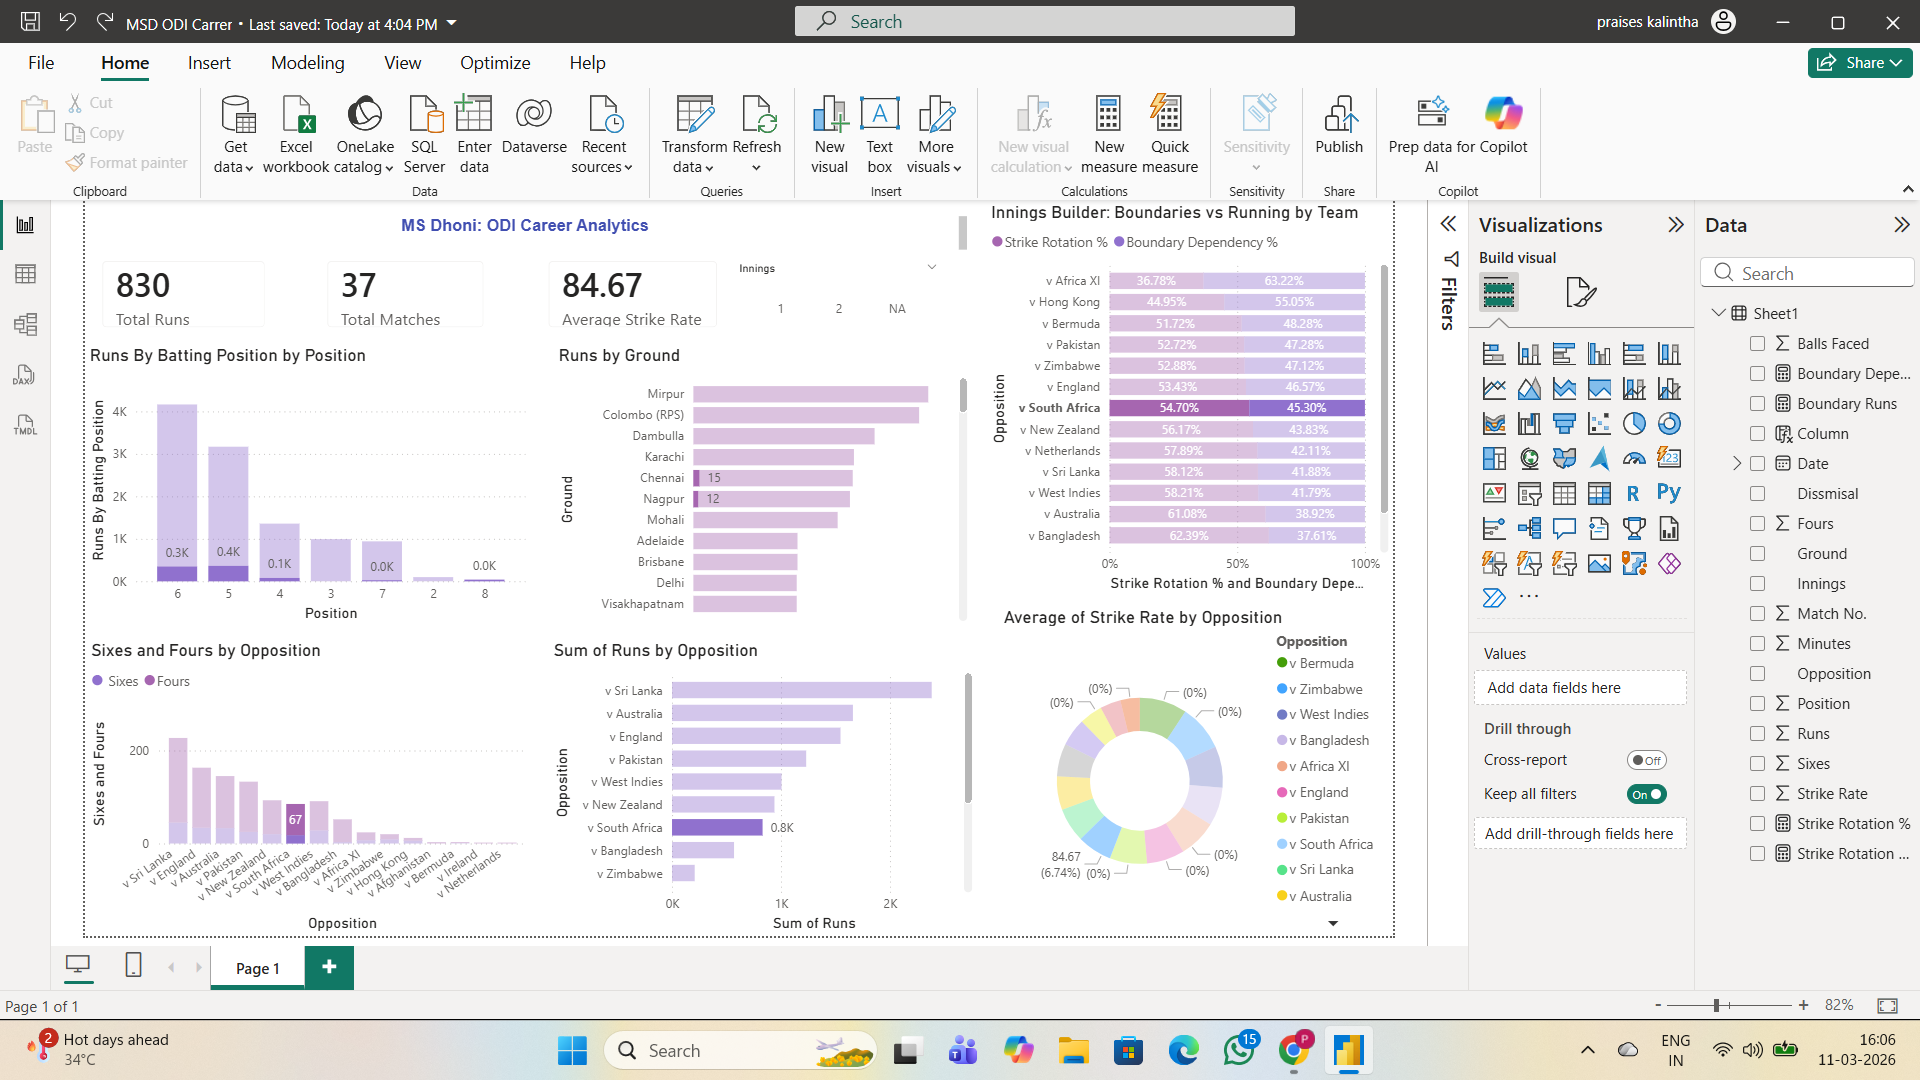

This screenshot's page, from the dashboard's own definition file:
{"tool":"powerbi","page":{"name":"Page 1","canvas":[1280,720],"ordinal":0},"visuals":[{"type":"columnChart","fields":{"Category":["Sheet1.Position"],"Y":["Sum(Sheet1.Runs)"]},"box":[0,141.8,436.6,275.1],"z":0},{"type":"columnChart","fields":{"Category":["Sheet1.Opposition"],"Y":["Sum(Sheet1.Sixes)","Sum(Sheet1.Fours)"]},"box":[1.2,430.4,435.3,289.8],"z":1000},{"type":"clusteredBarChart","fields":{"Y":["Sum(Sheet1.Runs)"],"Category":["Sheet1.Opposition"]},"box":[453.7,430.4,419.4,289.8],"z":2000},{"type":"donutChart","fields":{"Category":["Sheet1.Opposition"],"Y":["Avg(Sheet1.Strike Rate)"]},"box":[893.9,397.4,386.4,322.8],"z":3000},{"type":"cardVisual","fields":{"Data":["Sum(Sheet1.Runs)"]},"box":[0,42.8,193.2,99],"z":4000},{"type":"cardVisual","fields":{"Data":["CountNonNull(Sheet1.Match No.)"]},"box":[220.1,42.8,187.1,99],"z":5000},{"type":"cardVisual","fields":{"Data":["Avg(Sheet1.Strike Rate)"]},"box":[436.6,42.8,199.3,99],"z":6000},{"type":"barChart","fields":{"Category":["Sheet1.Ground"],"Y":["Sum(Sheet1.Runs)"]},"box":[458.6,141.8,409.6,275.1],"z":7000},{"type":"slicer","fields":{"Values":["Sheet1.Innings"]},"box":[627.3,55,218.9,86.8],"z":8000},{"type":"hundredPercentStackedBarChart","title":"Innings Builder: Boundaries vs Running by Team","fields":{"Category":["Sheet1.Opposition"],"Y":["Sheet1.Strike Rotation %","Sheet1.Boundary Dependency %"]},"box":[881.7,1.2,398.6,386.4],"z":9000},{"type":"textbox","box":[1.2,11,867,44],"z":10000}]}

Visuals, with their boxes on the page's 1280x720 design canvas (x1, y1, x2, y2). These are canvas units, not pixel positions in the 1920x1080 screenshot, which may show the page scaled, cropped or inside an application window:
columnChart - Sheet1.Position x Sum(Sheet1.Runs): {"x1": 0, "y1": 142, "x2": 437, "y2": 417}
columnChart - Sheet1.Opposition x Sum(Sheet1.Sixes): {"x1": 1, "y1": 430, "x2": 436, "y2": 720}
clusteredBarChart - Sum(Sheet1.Runs) x Sheet1.Opposition: {"x1": 454, "y1": 430, "x2": 873, "y2": 720}
donutChart - Sheet1.Opposition x Avg(Sheet1.Strike Rate): {"x1": 894, "y1": 397, "x2": 1280, "y2": 720}
cardVisual - Sum(Sheet1.Runs): {"x1": 0, "y1": 43, "x2": 193, "y2": 142}
cardVisual - CountNonNull(Sheet1.Match No.): {"x1": 220, "y1": 43, "x2": 407, "y2": 142}
cardVisual - Avg(Sheet1.Strike Rate): {"x1": 437, "y1": 43, "x2": 636, "y2": 142}
barChart - Sheet1.Ground x Sum(Sheet1.Runs): {"x1": 459, "y1": 142, "x2": 868, "y2": 417}
slicer - Sheet1.Innings: {"x1": 627, "y1": 55, "x2": 846, "y2": 142}
"Innings Builder: Boundaries vs Running by Team" hundredPercentStackedBarChart: {"x1": 882, "y1": 1, "x2": 1280, "y2": 388}
textbox: {"x1": 1, "y1": 11, "x2": 868, "y2": 55}
